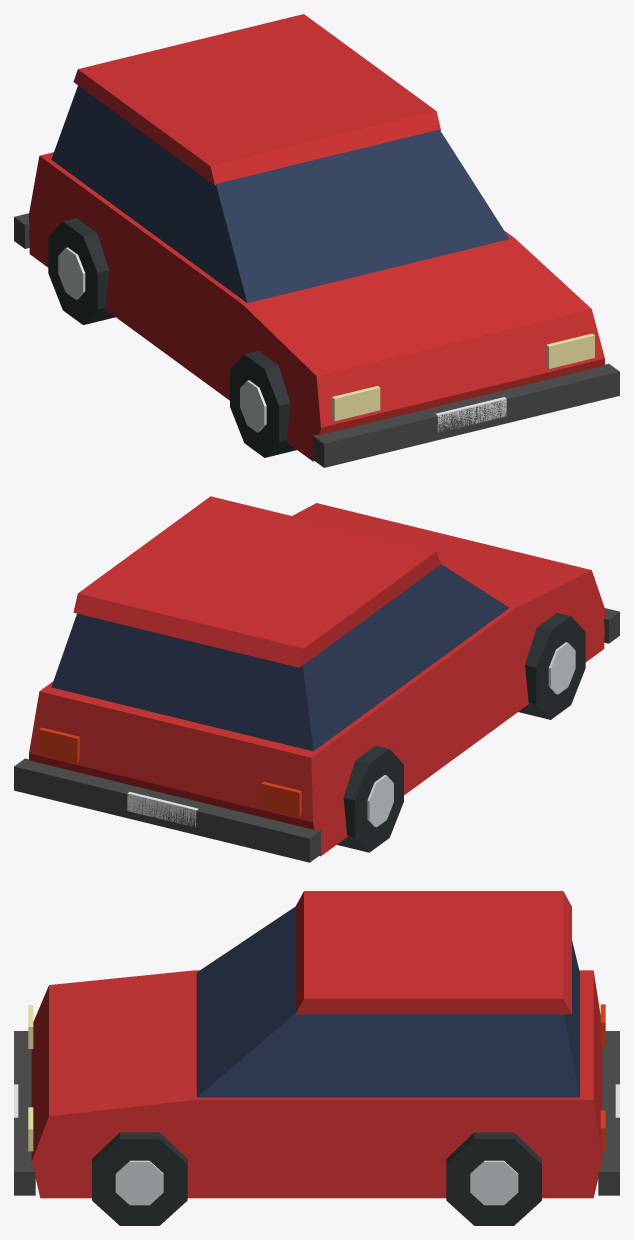
The model's file is auto-rot.glb.
The picture shows the model from 3 angles, top to bottom: view 1: azimuth 30°, elevation 25°; view 2: azimuth 150°, elevation 25°; view 3: azimuth 270°, elevation 25°; orthographic projection. The views are drawn at different scales.
Parts seen in each view (by area): view 1: auto-rot-karosserie, auto-rot-kabine, auto-rot-dach, auto-rot-stoss, wheel-rr, wheel-fr, auto-rot-schild, auto-rot-scheinwerfer.001, auto-rot-scheinwerfer; view 2: auto-rot-karosserie, auto-rot-dach, auto-rot-kabine, auto-rot-stoss.001, wheel-fr, wheel-rr, auto-rot-schild.001, auto-rot-ruecklicht, auto-rot-ruecklicht.001; view 3: auto-rot-karosserie, auto-rot-kabine, auto-rot-dach, wheel-fl, wheel-rl, auto-rot-stoss.001, auto-rot-stoss.
Boxes of the visible parts, bbox=[...] form: auto-rot-karosserie: bbox=[29, 152, 604, 461]; auto-rot-kabine: bbox=[51, 85, 509, 302]; auto-rot-dach: bbox=[73, 14, 440, 185]; auto-rot-stoss: bbox=[313, 363, 619, 467]; wheel-rr: bbox=[48, 218, 115, 324]; wheel-fr: bbox=[230, 351, 296, 457]; auto-rot-schild: bbox=[435, 397, 506, 432]; auto-rot-scheinwerfer.001: bbox=[546, 333, 594, 368]; auto-rot-scheinwerfer: bbox=[332, 386, 380, 421]; auto-rot-karosserie: bbox=[29, 503, 604, 856]; auto-rot-dach: bbox=[73, 496, 440, 667]; auto-rot-kabine: bbox=[51, 564, 509, 751]; auto-rot-stoss.001: bbox=[14, 758, 320, 862]; wheel-fr: bbox=[518, 613, 585, 719]; wheel-rr: bbox=[337, 745, 403, 852]; auto-rot-schild.001: bbox=[127, 792, 198, 827]; auto-rot-ruecklicht: bbox=[261, 781, 301, 816]; auto-rot-ruecklicht.001: bbox=[39, 727, 79, 762]; auto-rot-karosserie: bbox=[31, 970, 602, 1198]; auto-rot-kabine: bbox=[196, 906, 579, 1097]; auto-rot-dach: bbox=[295, 891, 571, 1014]; wheel-fl: bbox=[92, 1132, 187, 1225]; wheel-rl: bbox=[446, 1132, 541, 1225]; auto-rot-stoss.001: bbox=[598, 1031, 619, 1195]; auto-rot-stoss: bbox=[14, 1031, 35, 1195].
Size of the model in its own units: 4.06 by 2.65 by 7.01.
